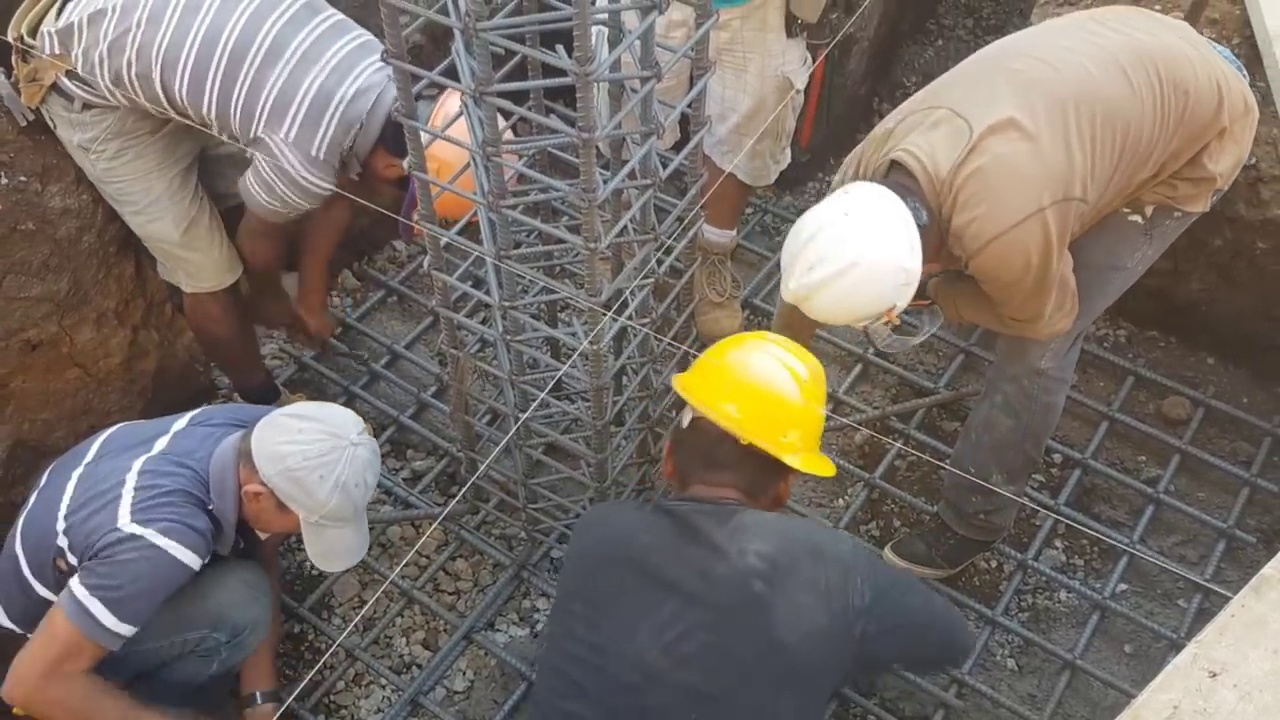helmet: (676, 334, 837, 482), (786, 181, 930, 330), (410, 83, 509, 221)
helmet-off: (230, 401, 375, 575)
helmet-on: (656, 326, 838, 518), (786, 152, 950, 327), (360, 69, 517, 230)
person: (774, 8, 1260, 572), (0, 0, 518, 394), (527, 320, 979, 711), (12, 380, 381, 705), (572, 3, 807, 306)
